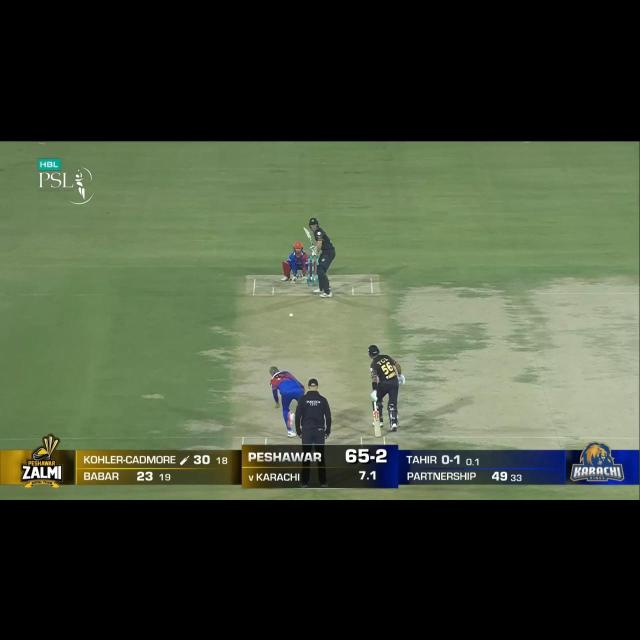bat: (372, 412, 384, 439), (302, 226, 316, 246)
toe: (372, 431, 383, 438), (302, 226, 308, 232)
